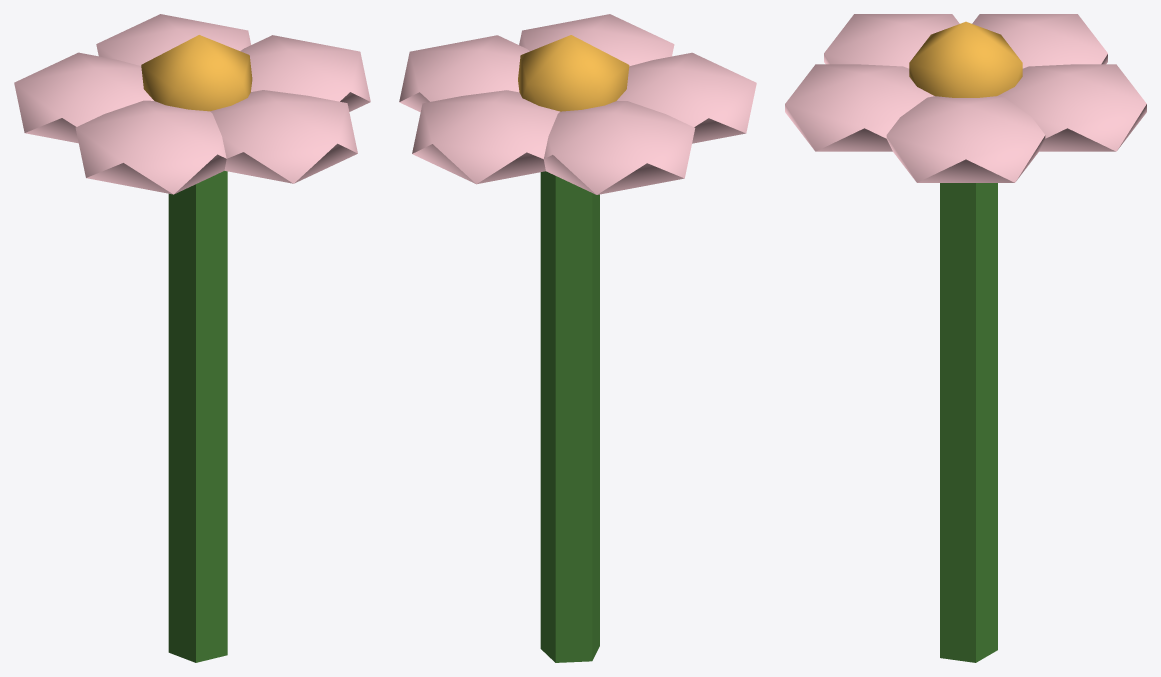
File: flower.glb
The picture shows the model from 3 angles, left to right: view 1: azimuth 30°, elevation 25°; view 2: azimuth 150°, elevation 25°; view 3: azimuth 270°, elevation 25°; orthographic projection. The views are drawn at different scales.
Visible parts, largest first — view 1: Flower; view 2: Flower; view 3: Flower.
Boxes of the visible parts, x1,y1,x2,y2 form: Flower: (14,14,370,662); Flower: (399,14,756,662); Flower: (785,14,1146,662).
Size of the model in its own units: 0.135 by 0.26 by 0.1356.
